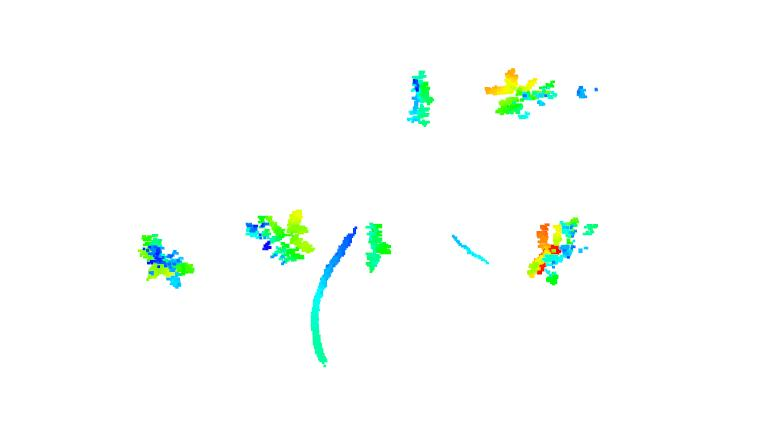chickpea: (526, 218, 600, 285), (244, 209, 317, 267), (487, 69, 557, 121), (138, 231, 196, 291), (405, 68, 434, 129), (363, 220, 391, 277)
